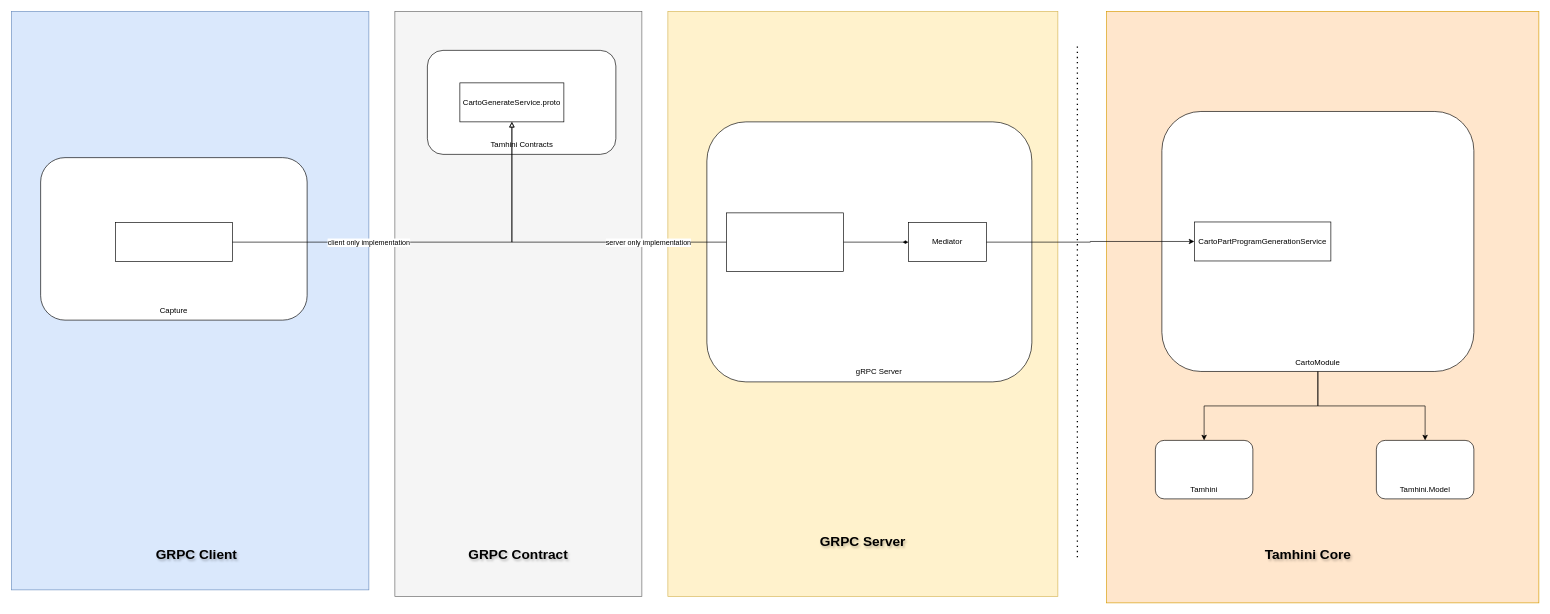
The diagram is 1550 pixels wide and 614 high, and some of its shapes have lost their labels. The centre of each missing label's shape, as x and y in pixels:
ClientCartoGenerateService: the point at 173,242
ServerCartoGenerateService: the point at 784,241
